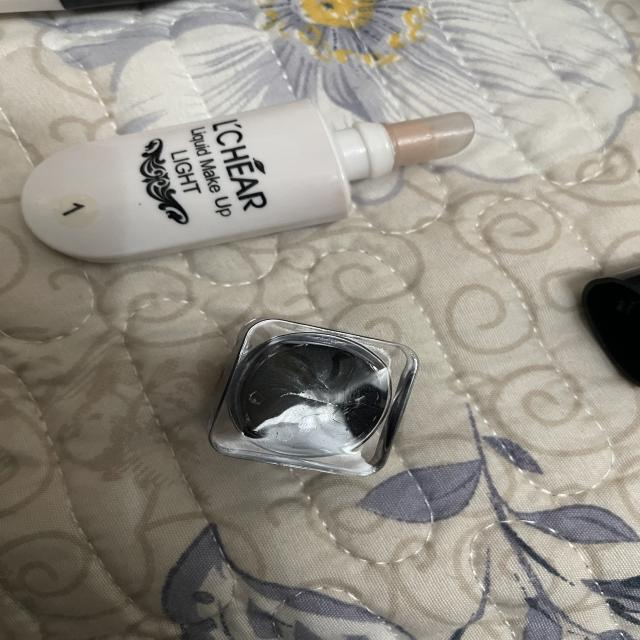concealer: (9, 71, 492, 277)
eye shade: (186, 302, 450, 489)
